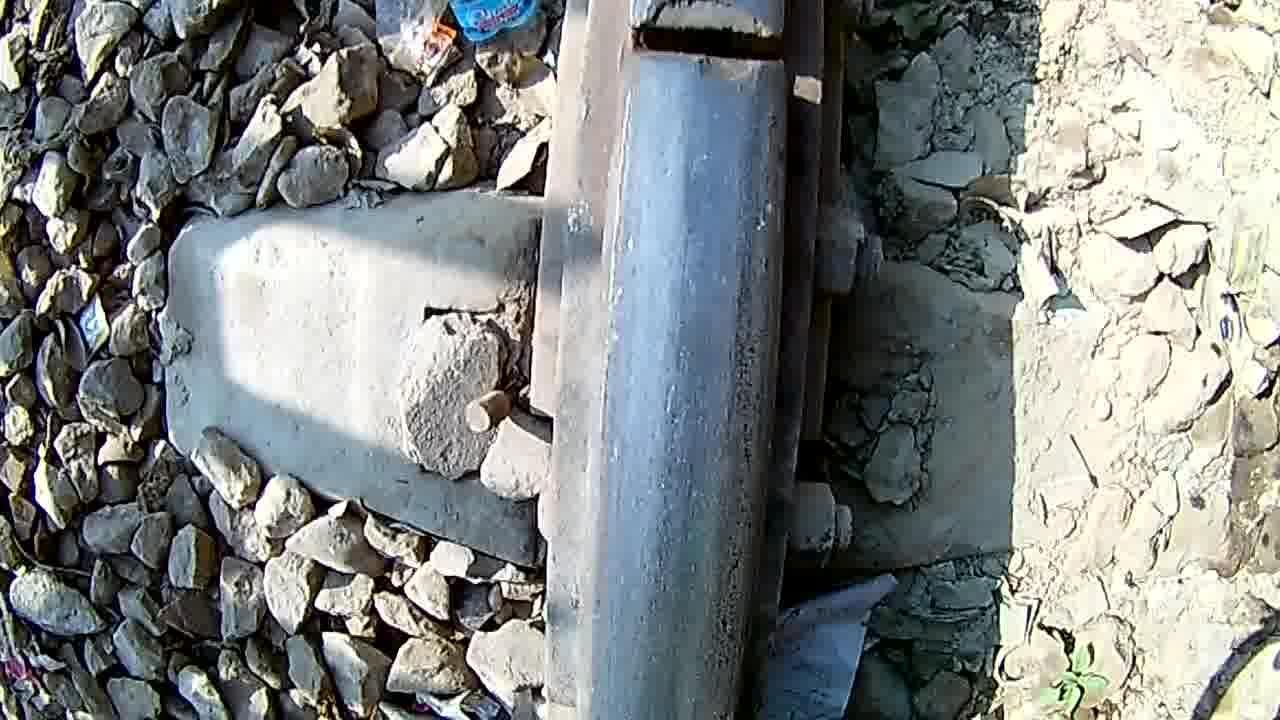crack: (608, 0, 806, 113)
